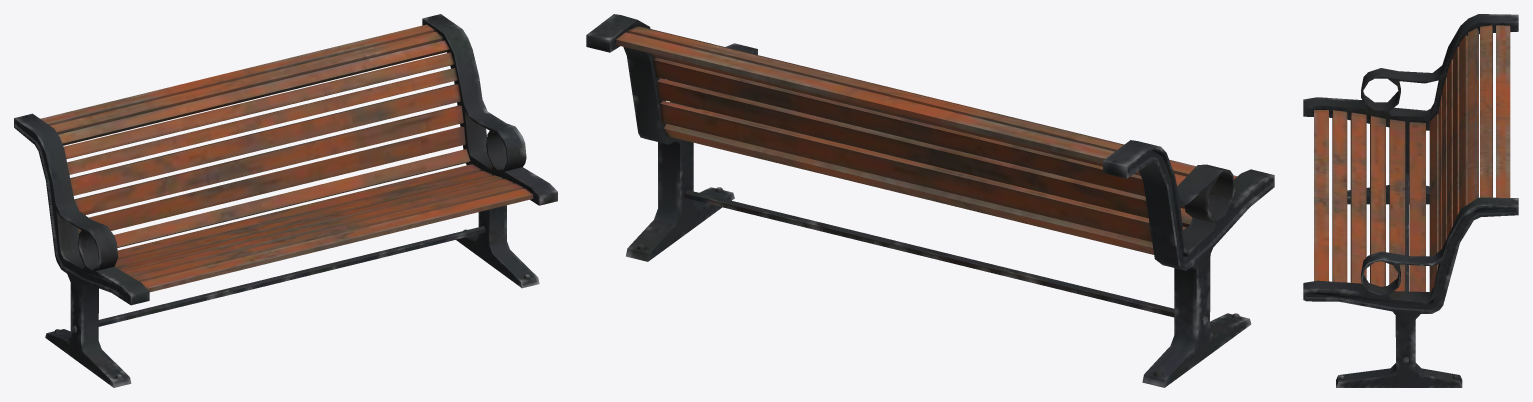
Rendered from bench_355.glb.
The picture shows the model from 3 angles, left to right: view 1: azimuth 30°, elevation 25°; view 2: azimuth 150°, elevation 25°; view 3: azimuth 270°, elevation 25°; orthographic projection. The views are drawn at different scales.
Parts seen in each view (by area): view 1: bench_355; view 2: bench_355; view 3: bench_355.
Boxes of the visible parts, x1,y1,x2,y2 form: bench_355: [14, 14, 557, 387]; bench_355: [586, 14, 1274, 387]; bench_355: [1303, 14, 1518, 387].
Bounding box in the file's own units: 2.21 × 0.9727 × 1.04.
Materials: 1 (1 with a texture image).
